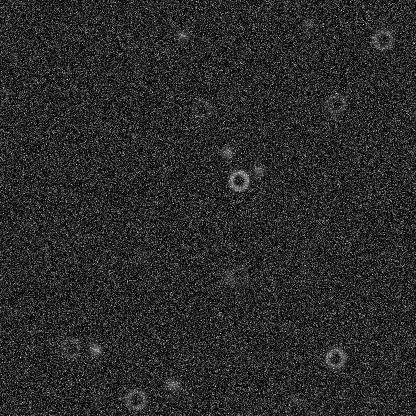Ring: (189, 96, 213, 120), (226, 168, 250, 192), (370, 27, 394, 51), (123, 387, 147, 411), (57, 335, 81, 359), (323, 346, 347, 370), (323, 91, 347, 115), (226, 263, 250, 287)
Spot: (91, 388, 107, 404), (300, 15, 316, 31), (164, 376, 180, 392), (134, 250, 150, 266), (219, 143, 235, 159), (174, 26, 190, 42), (286, 391, 302, 407), (87, 341, 103, 357), (219, 272, 235, 288), (296, 240, 312, 256), (250, 162, 266, 178)
